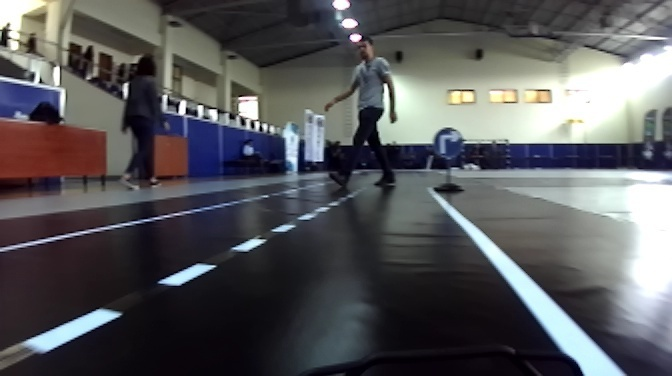saga_donus: (434, 126, 465, 160)
